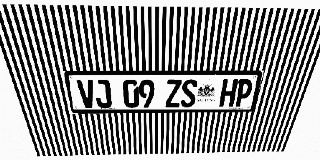0: (122, 79, 139, 108)
9: (139, 79, 155, 108)
H: (219, 79, 238, 107)
J: (93, 79, 112, 108)
P: (233, 79, 254, 107)
S: (180, 79, 198, 107)
V: (76, 80, 97, 108)
Z: (165, 79, 182, 107)
